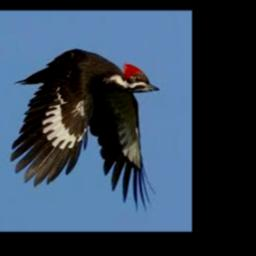Woodpecker: (11, 48, 159, 214)
